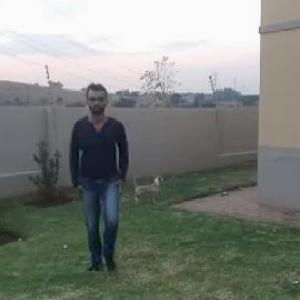follow: (75, 84, 131, 256)
